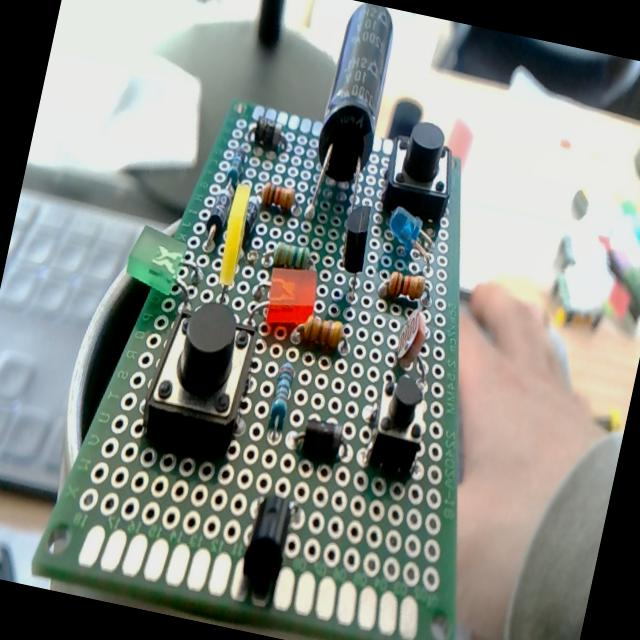Electrolytic capacitor: (294, 0, 405, 241)
cds: (381, 302, 447, 382)
diode: (282, 410, 358, 470), (192, 176, 236, 266), (238, 105, 298, 157)
led: (114, 218, 214, 320), (204, 154, 268, 312), (242, 250, 327, 344), (378, 200, 445, 276)
resistor: (256, 351, 306, 448), (280, 306, 360, 364), (369, 265, 442, 320), (255, 231, 322, 285), (254, 174, 302, 217)
switch: (131, 284, 268, 472), (372, 108, 468, 226), (352, 369, 440, 487)
transistor: (328, 190, 382, 308)
